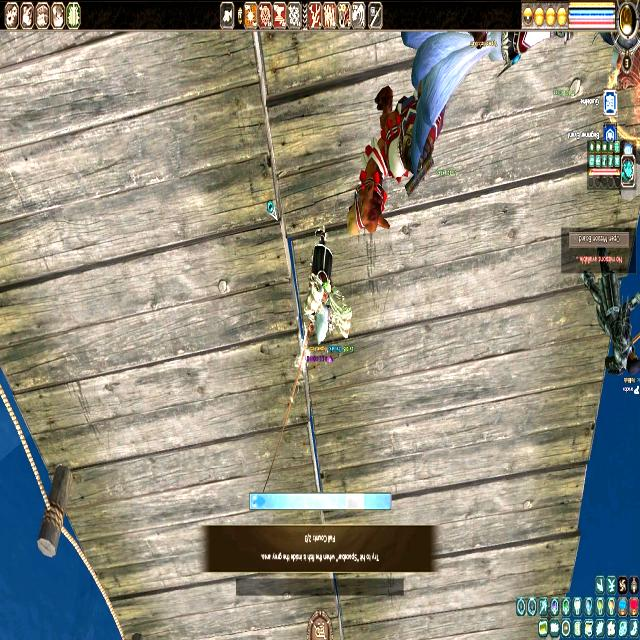fishes: (253, 493, 267, 509)
